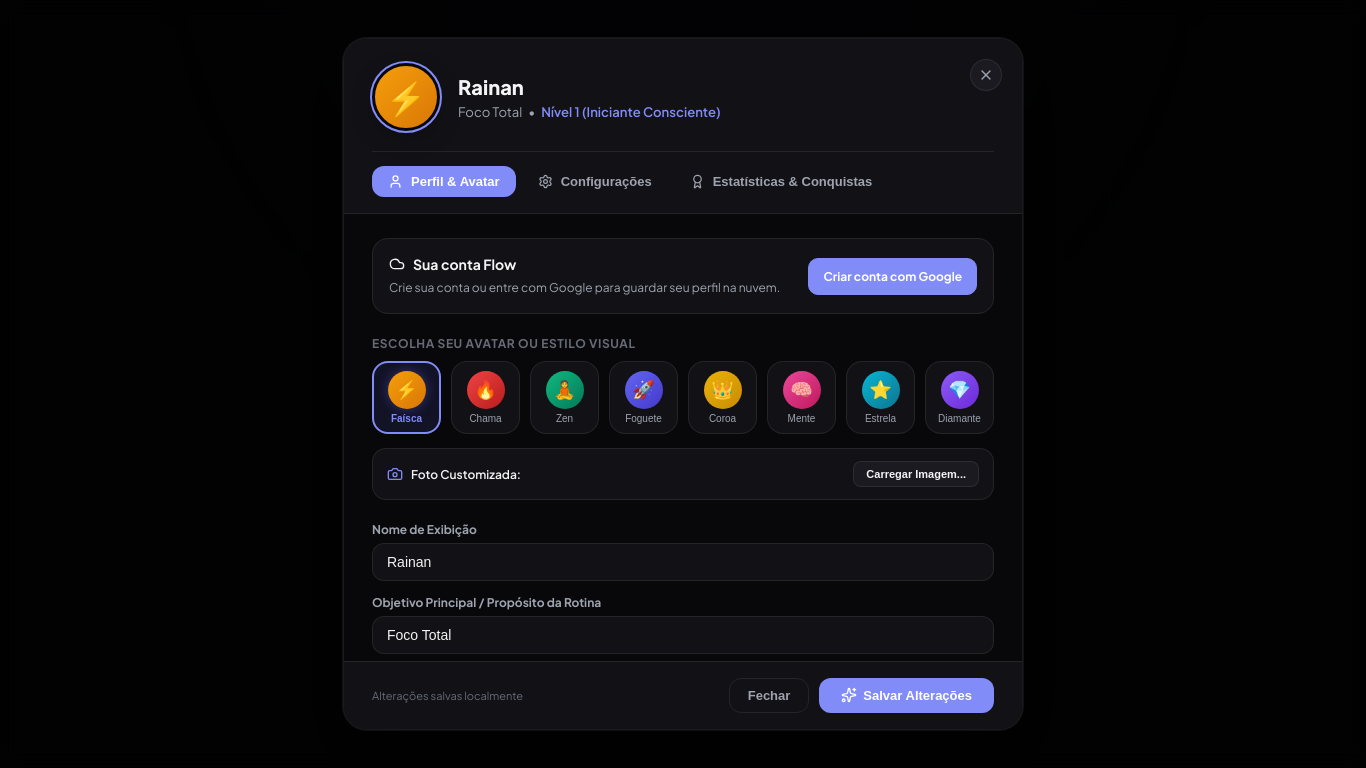
Test case: UserProfileModal Component › mostra cancelamento, mantém as edições locais e permite tentar novamente
Replace the text in the field with test id "profile-name-input" with "Nome editado". click: (683, 562)
box: [372, 543, 994, 581]
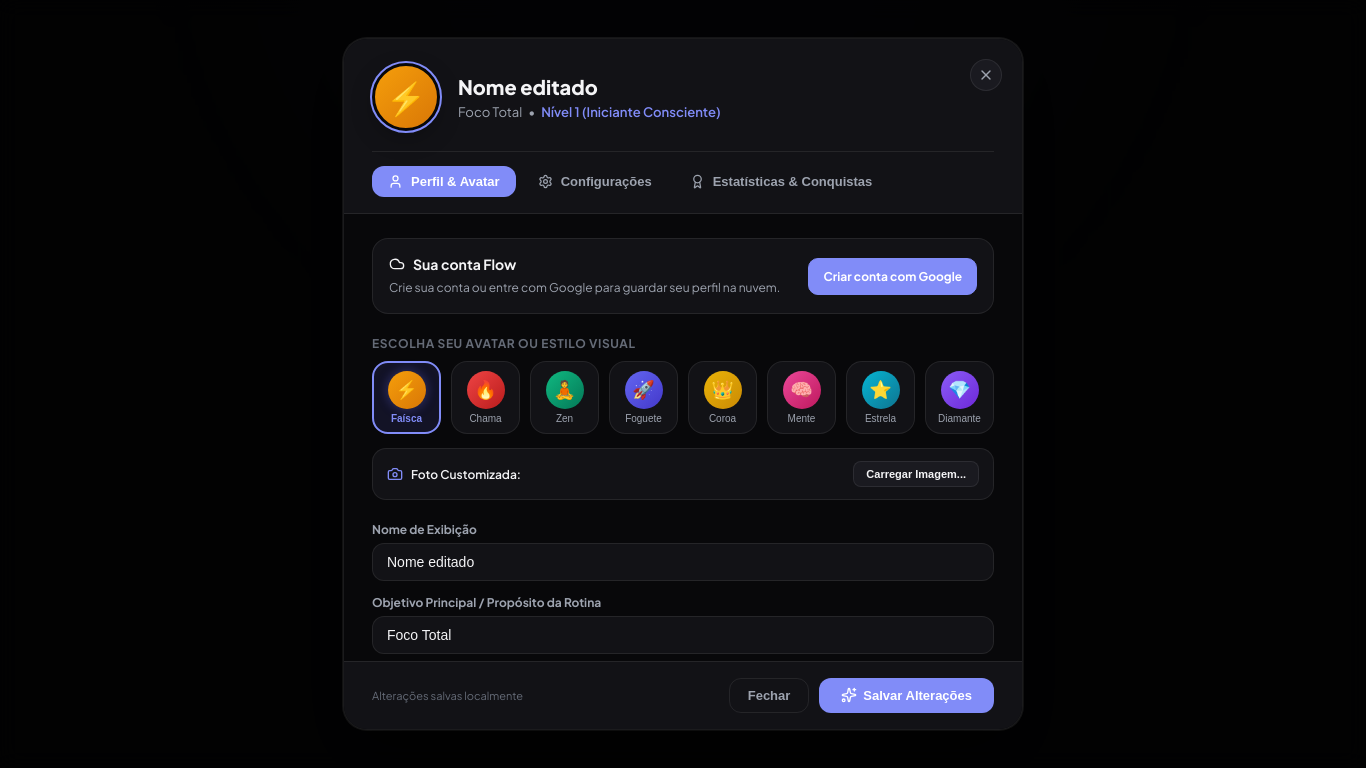
Click the button "Criar conta com Google". click: (893, 276)
box: [808, 258, 977, 295]
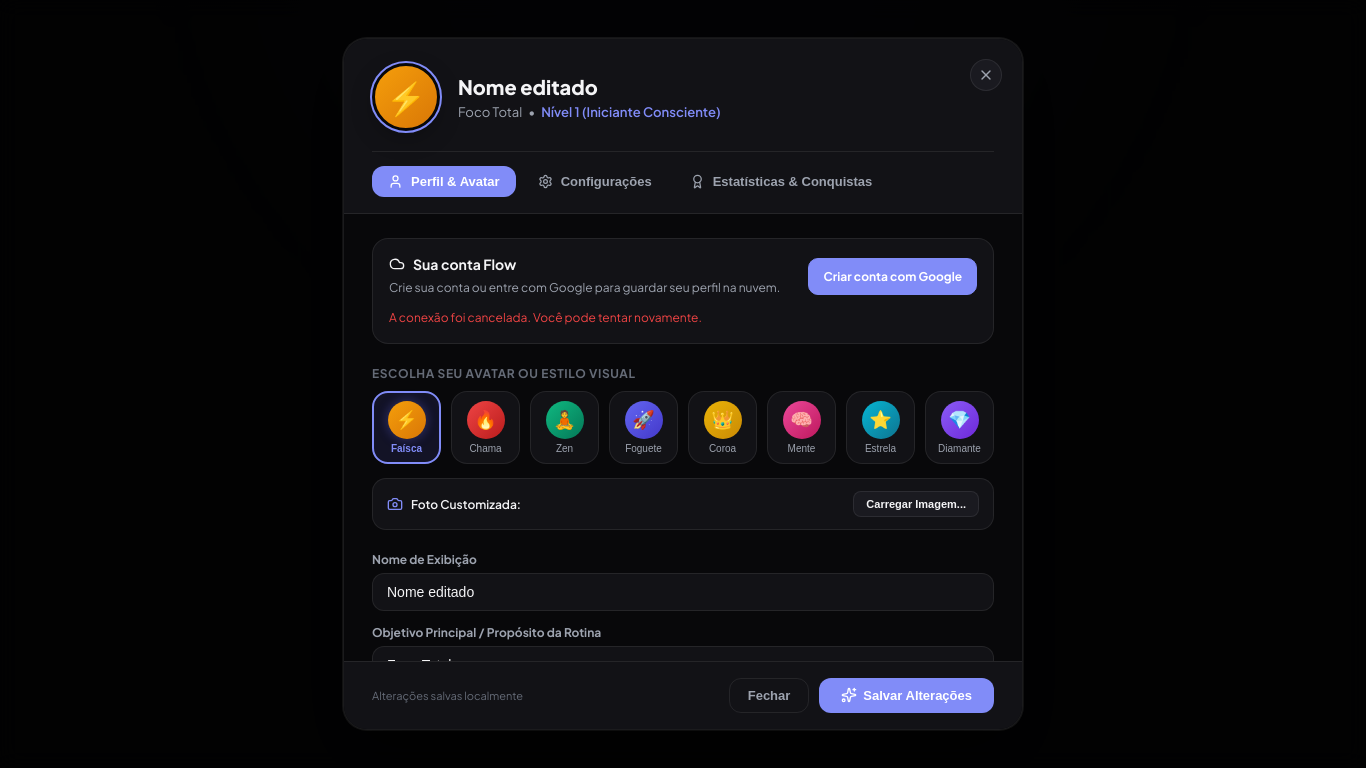
Result: the message shows "A conexão foi cancelada" at [389, 310, 702, 325]
Click the button "Criar conta com Google". click: (893, 276)
box: [808, 258, 977, 295]
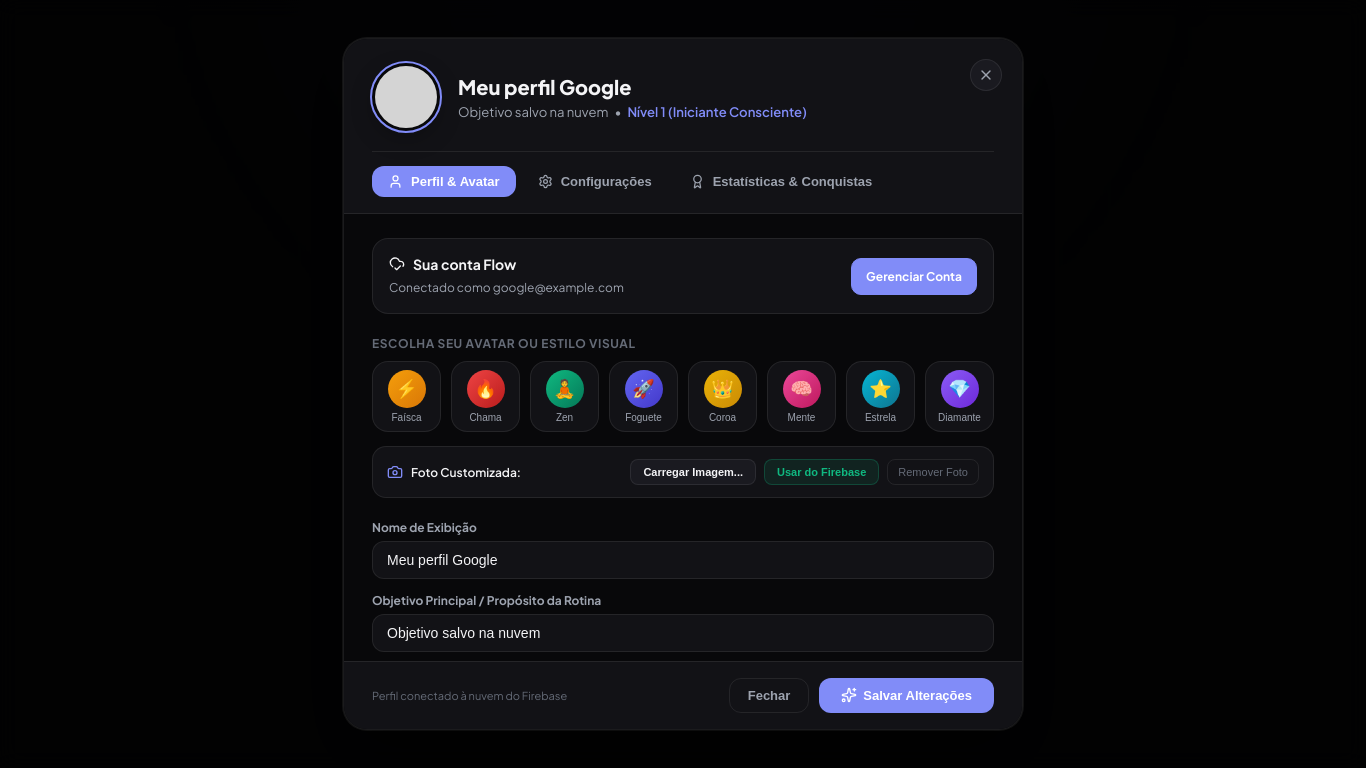
Result: the text "Conectado como google@example.com" is shown at [389, 280, 624, 295]
Result: the message "A conexão foi cancelada. Você pode tentar novamente." is gone
